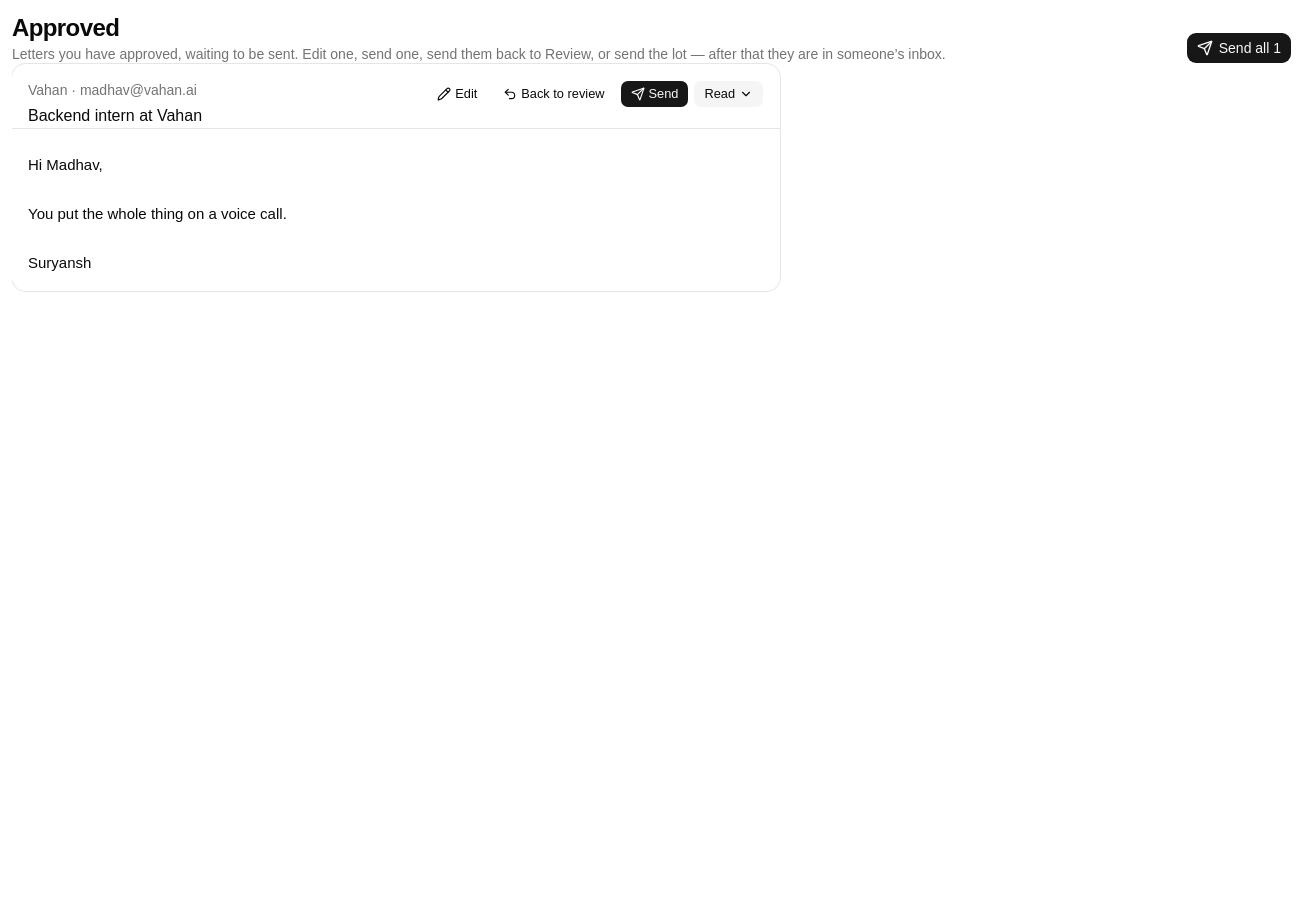
Test: opens the editor on the formatting it was saved with
Click the button "Edit".
click(457, 94)  # box [426,80,488,108]
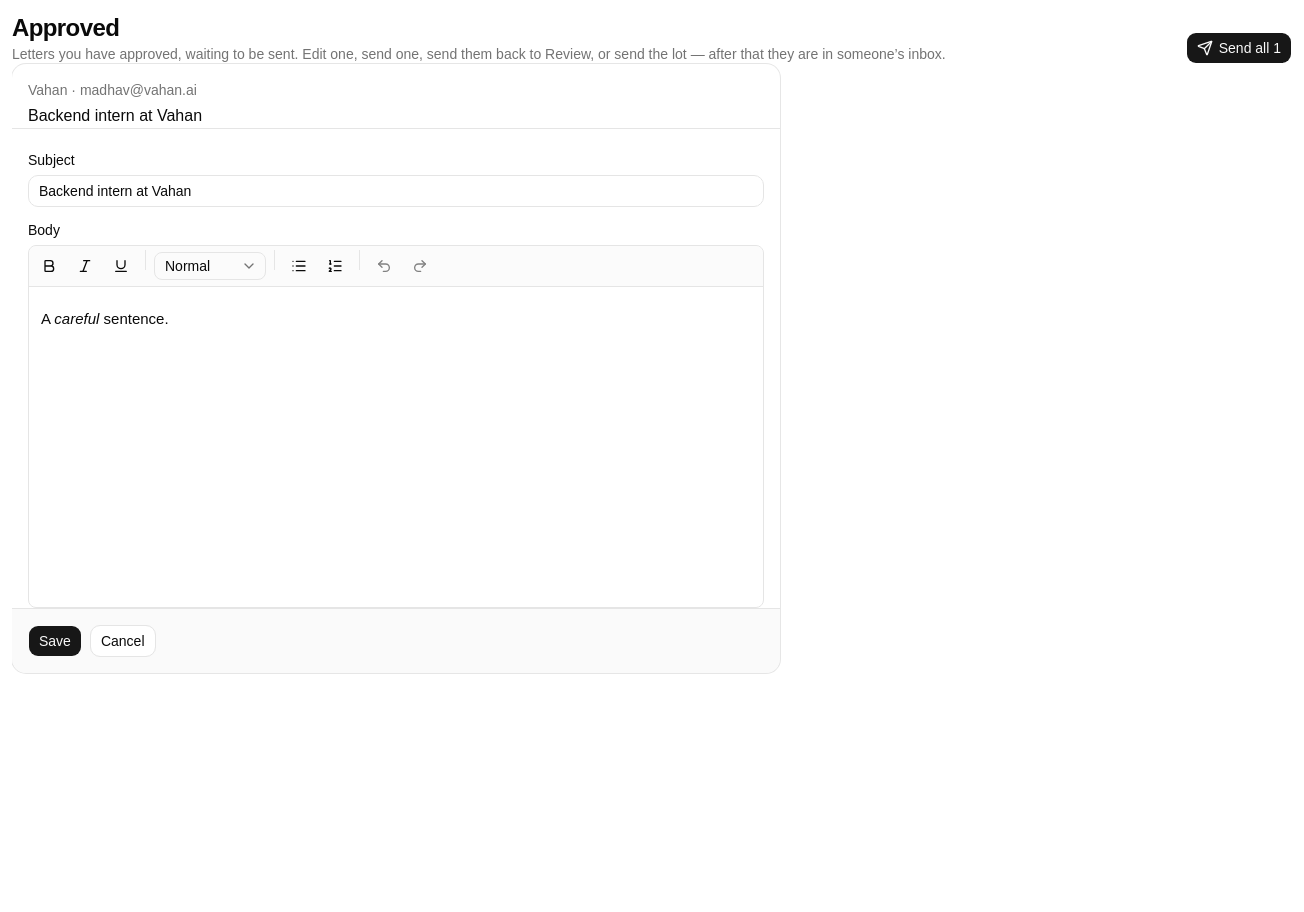
Expected: the text box labelled "careful" is shown, [54,310,99,327]
